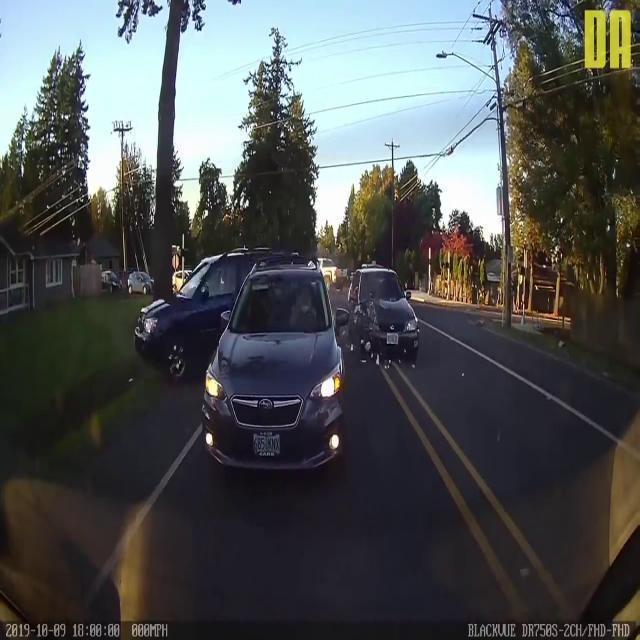accident: (134, 245, 424, 479)
non-accident: (98, 265, 156, 295)
